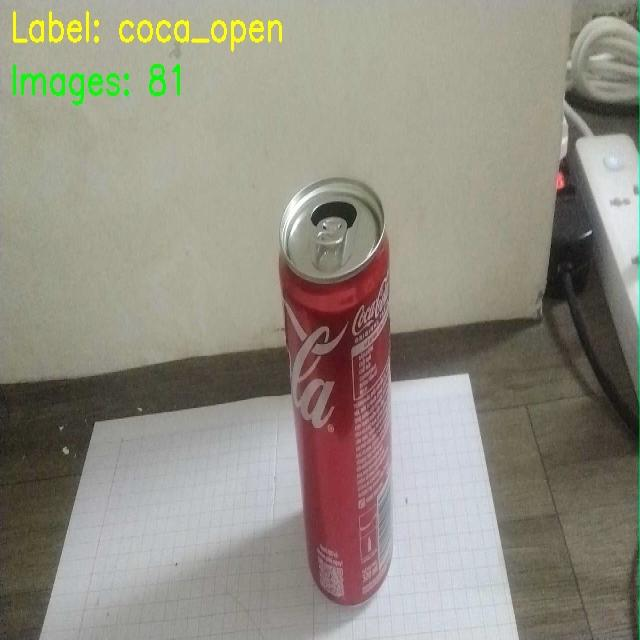Coca_open: (252, 150, 418, 618)
